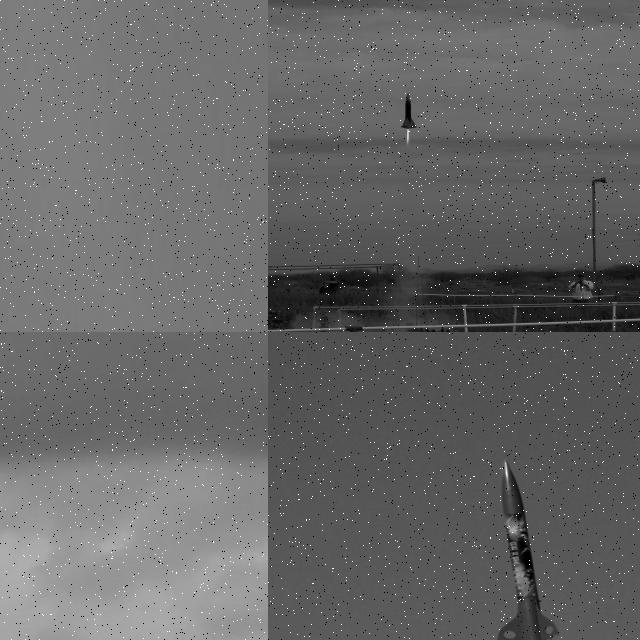Rocket: (494, 458, 560, 640), (400, 91, 418, 129)
